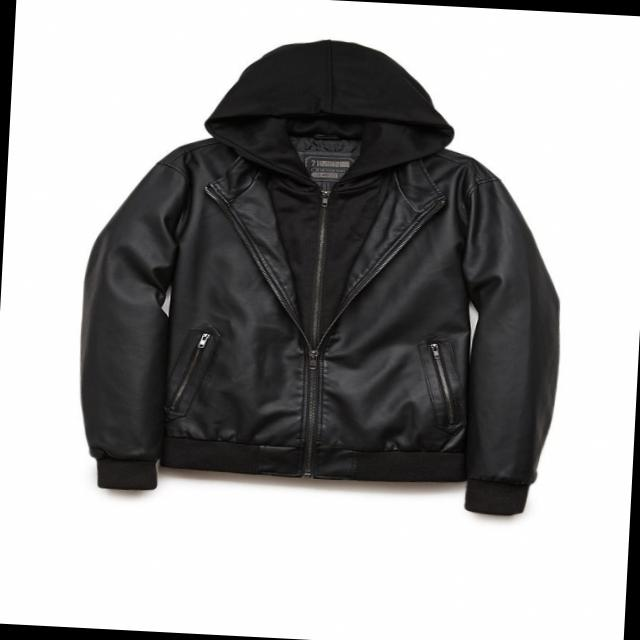Jacket: (70, 25, 580, 518)
